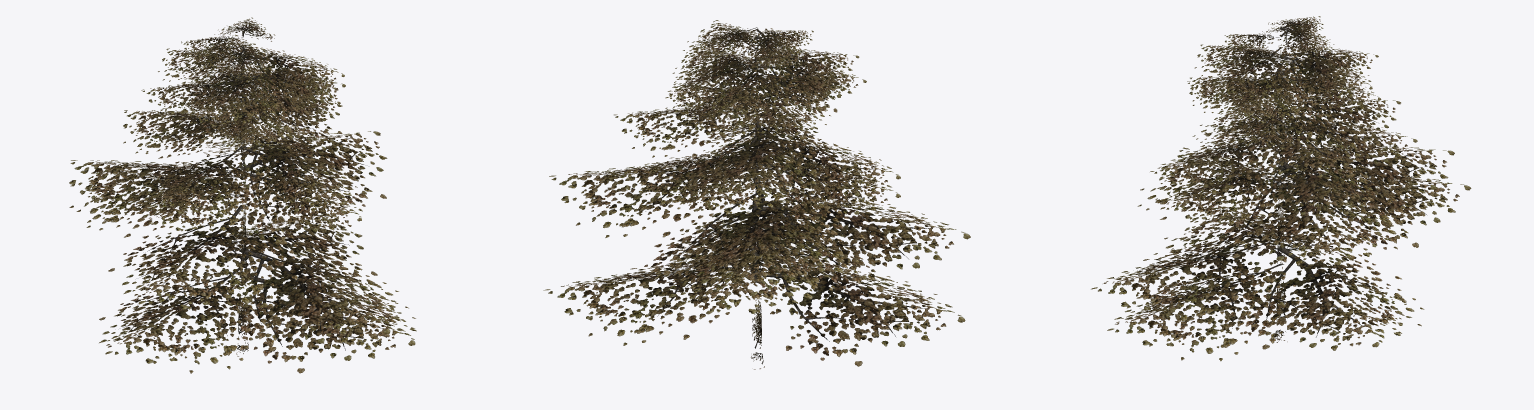
Rendered from Tree_3.dae.
3 renders of one model, left to right at view 1: azimuth 30°, elevation 25°; view 2: azimuth 150°, elevation 25°; view 3: azimuth 270°, elevation 25°, orthographic. The views are drawn at different scales.
Visible parts, largest first — view 1: Tree_3_polySurface1; view 2: Tree_3_polySurface1; view 3: Tree_3_polySurface1.
Boxes of the visible parts, left/top/right/bottom form: Tree_3_polySurface1: left=69, top=17, right=416, bottom=373; Tree_3_polySurface1: left=543, top=20, right=970, bottom=369; Tree_3_polySurface1: left=1091, top=16, right=1471, bottom=361.
Size of the model in its own units: 128 by 94.76 by 128.
